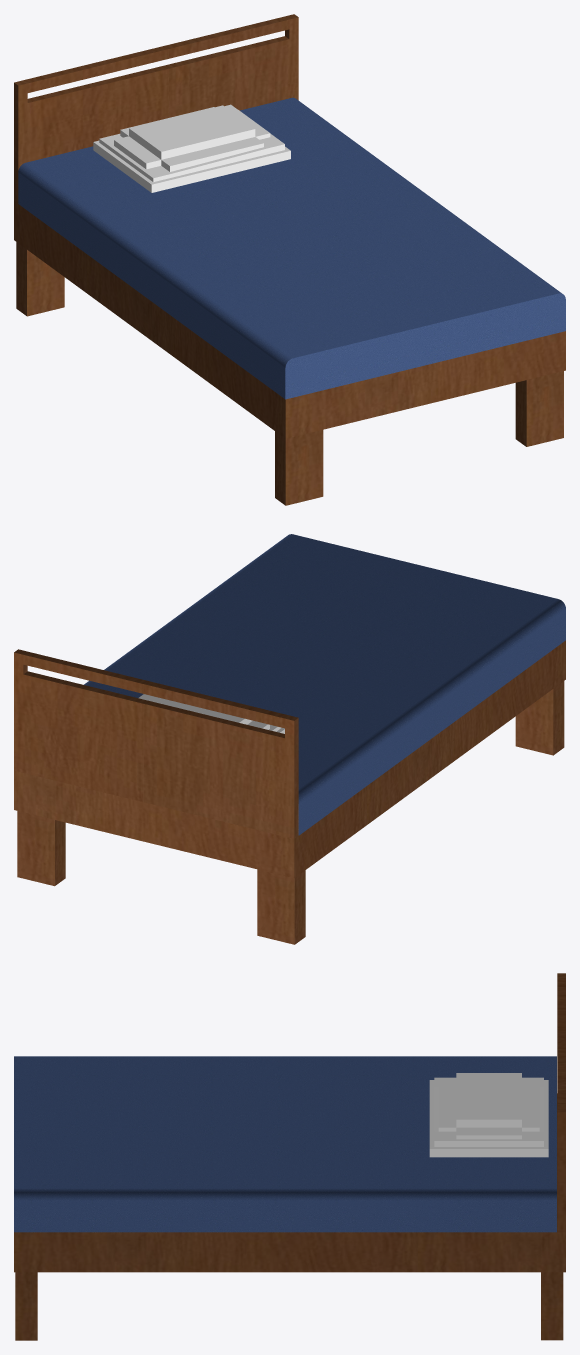
The model's file is lozko2.glb.
3 views of the same model, one above another, from view 1: azimuth 30°, elevation 25°; view 2: azimuth 150°, elevation 25°; view 3: azimuth 270°, elevation 25° (orthographic).
Parts seen in each view (by area): view 1: SketchUp, group_4, group_5, group_0, group_1, group_2; view 2: SketchUp, group_4, group_2, group_3, group_0, group_5; view 3: SketchUp, group_4, group_5, group_1, group_3.
Boxes of the visible parts, x1,y1,x2,y2 form: SketchUp: (14, 14, 565, 399); group_4: (14, 201, 565, 438); group_5: (93, 104, 290, 192); group_0: (275, 430, 323, 505); group_1: (515, 371, 563, 446); group_2: (16, 242, 64, 316); SketchUp: (14, 534, 565, 838); group_4: (14, 640, 565, 878); group_2: (257, 869, 305, 944); group_3: (17, 811, 65, 886); group_0: (515, 681, 564, 755); group_5: (138, 694, 284, 733); SketchUp: (14, 973, 565, 1232); group_4: (14, 1093, 565, 1272); group_5: (429, 1073, 548, 1157); group_1: (15, 1272, 37, 1340); group_3: (541, 1272, 563, 1340).
Bounding box in the file's own units: 58.69 × 45.03 × 98.43.
Materials: 4 (3 with a texture image).
